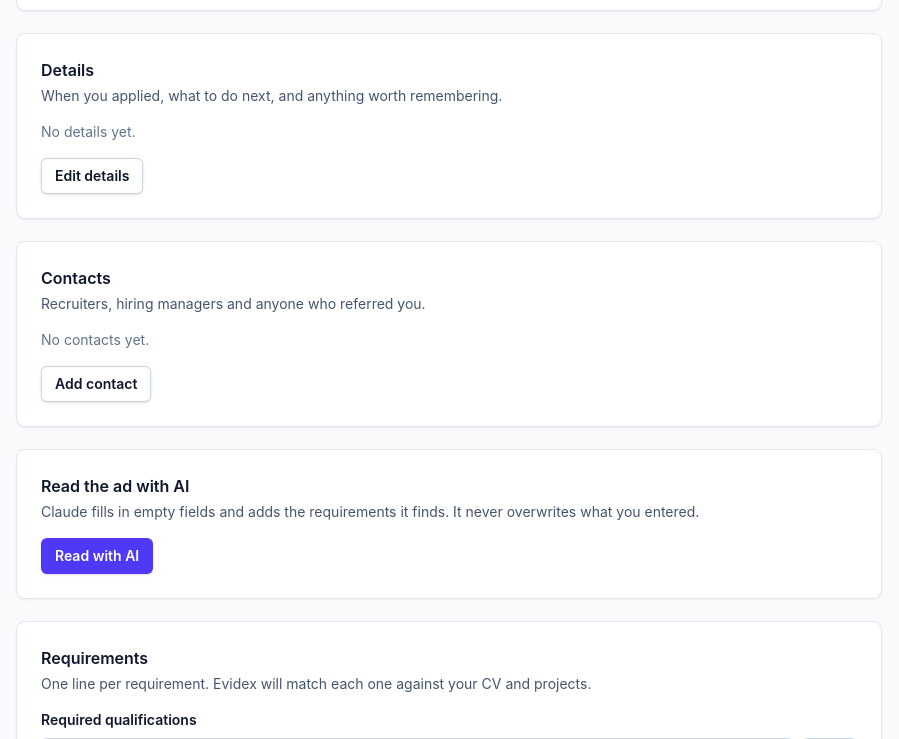
Contacts › adds, shows and removes a contact
(page scrolled)
Click the button "Add contact".
click(96, 384)  # box [41,366,151,402]
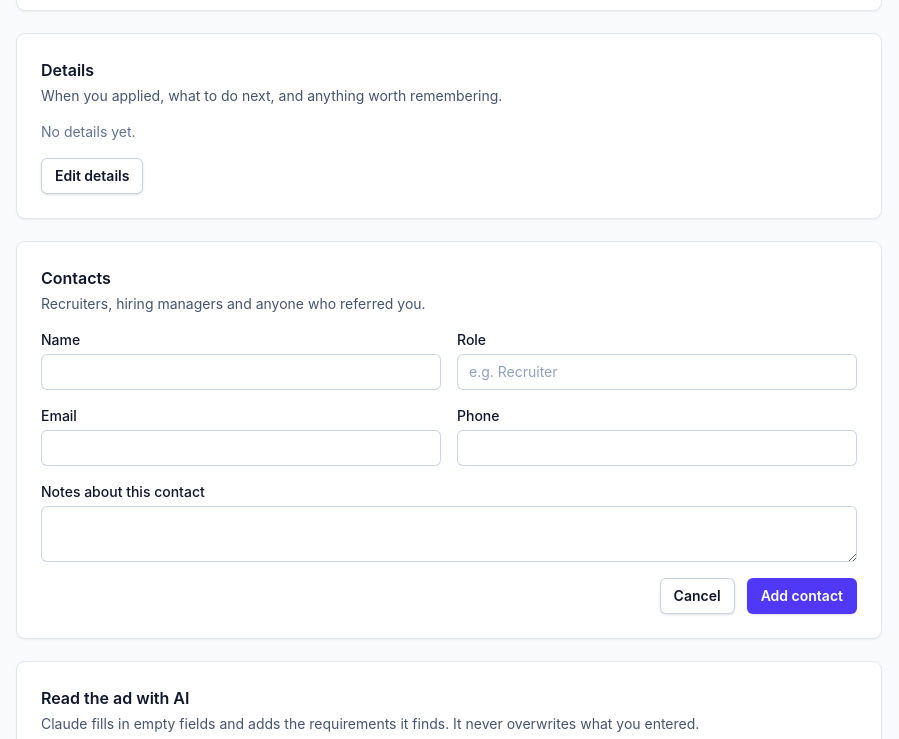
Type "Ana Virtanen" into the field labelled "Name".
click(241, 372); type("Ana Virtanen")  # box [41,354,441,390]
Type "Recruiter" into the field labelled "Role".
click(657, 372); type("Recruiter")  # box [457,354,857,390]
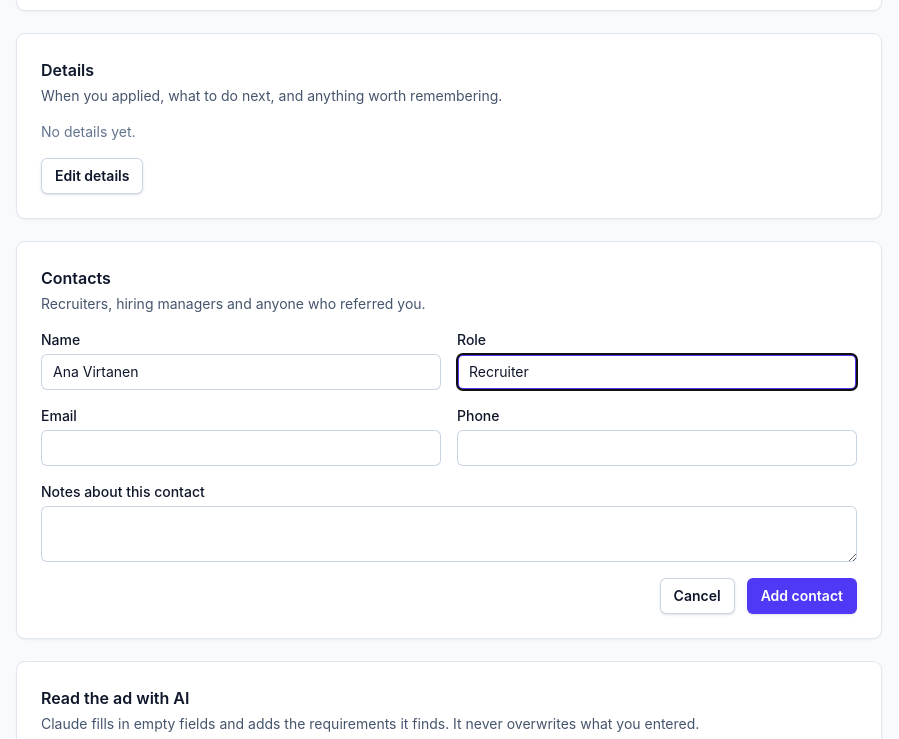
Type "ana@example.com" into the field labelled "Email".
click(241, 448); type("ana@example.com")  # box [41,430,441,466]
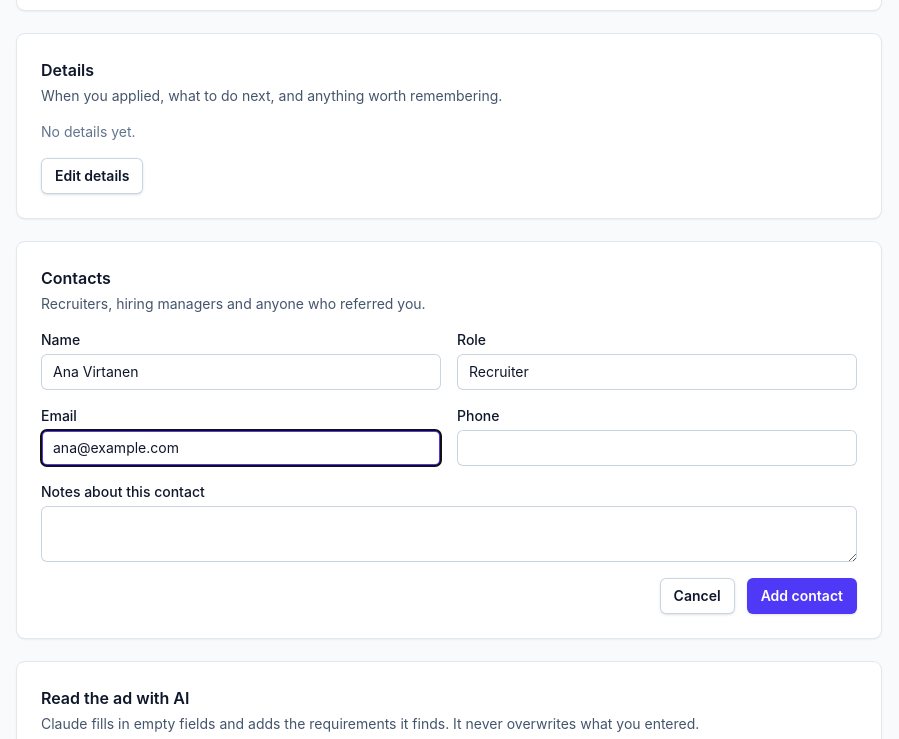
Type "+358 40 123 4567" into the field labelled "Phone".
click(657, 448); type("+358 40 123 4567")  # box [457,430,857,466]
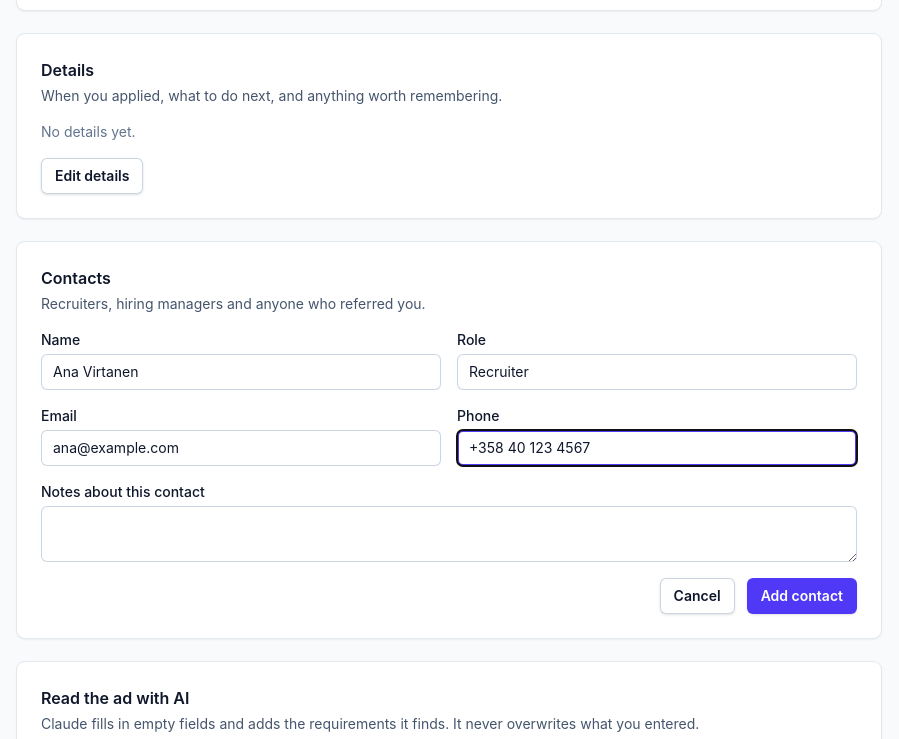
Click the button "Add contact".
click(802, 596)  # box [747,578,857,614]
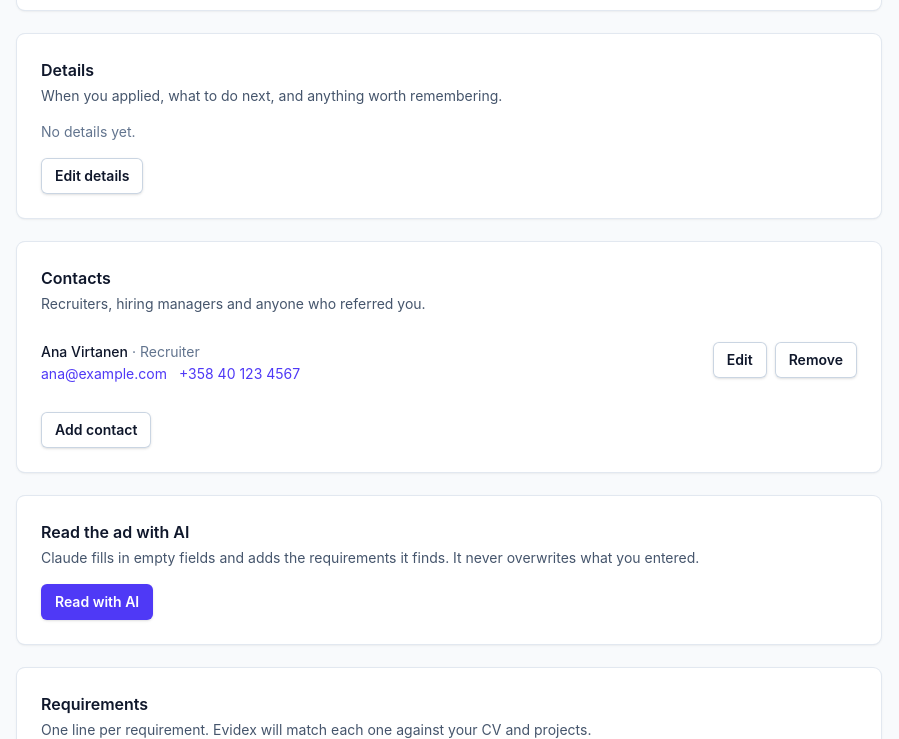
Click the button with aria-label "Remove Ana Virtanen".
click(816, 360)  # box [775,342,857,378]
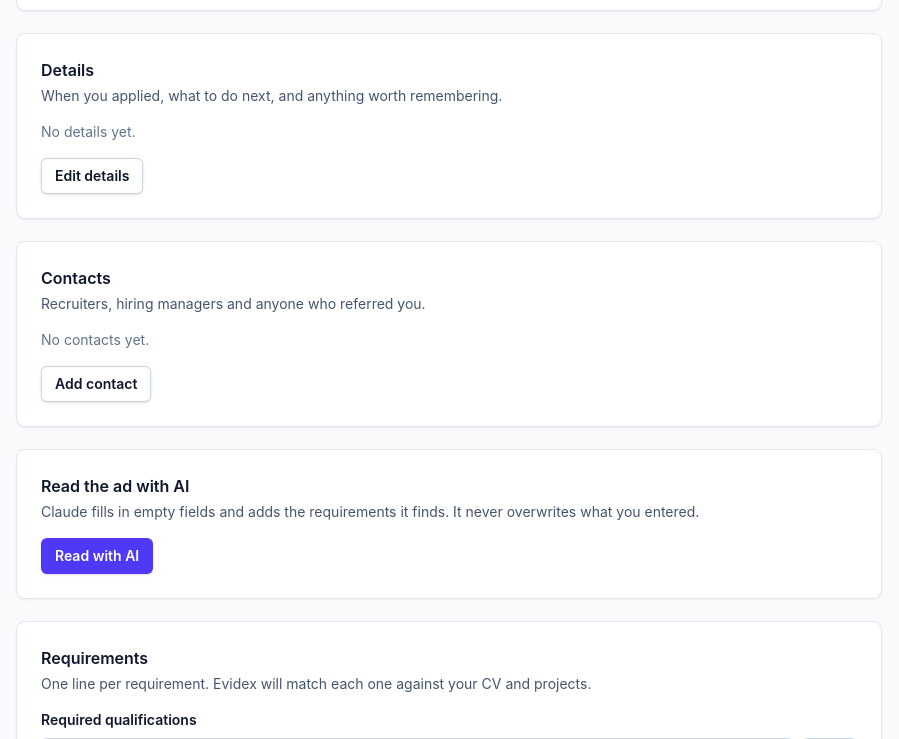
Expected: the text "Ana Virtanen" is gone
